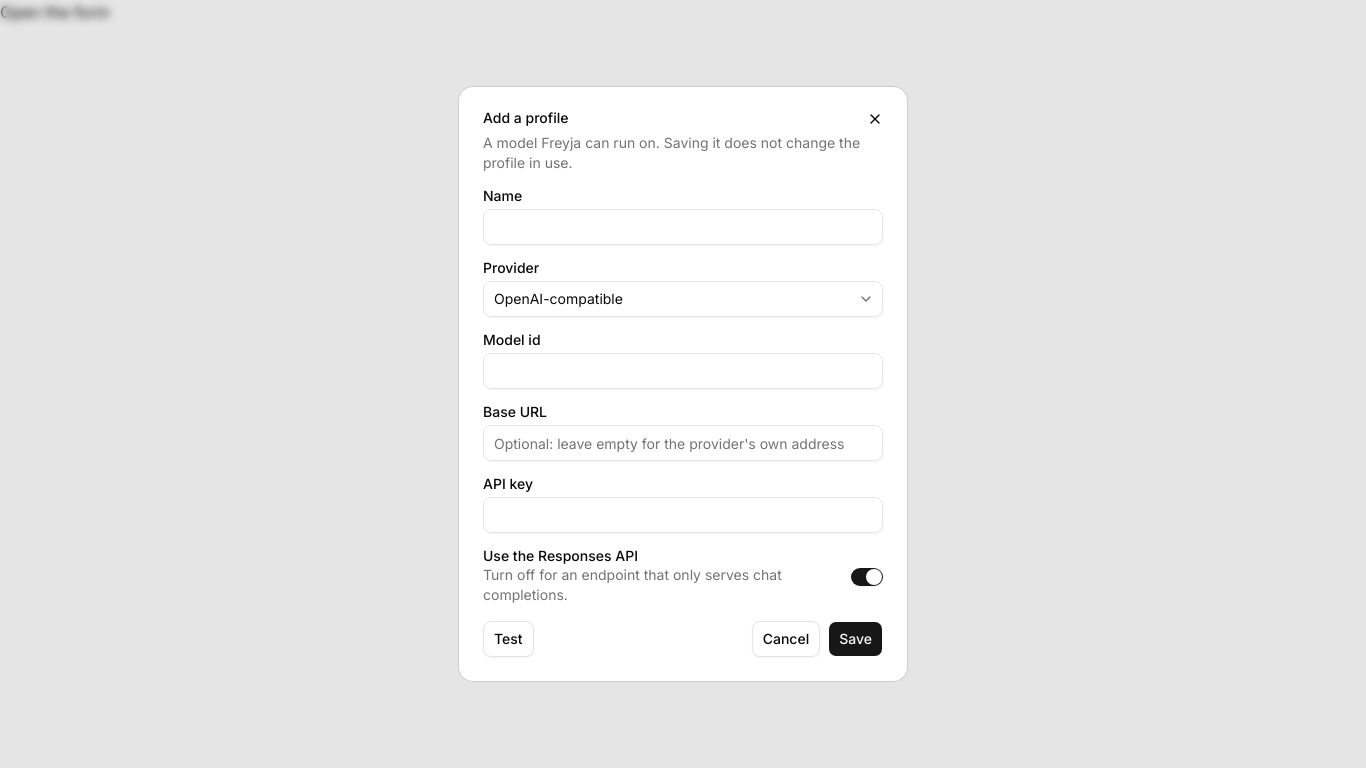
ProfileForm, adding › shows a name that is taken at the name, and sends nothing more
Type "Local vLLM" into the field labelled "Name" at (683, 227), box x1=483 y1=209 x2=883 y2=245
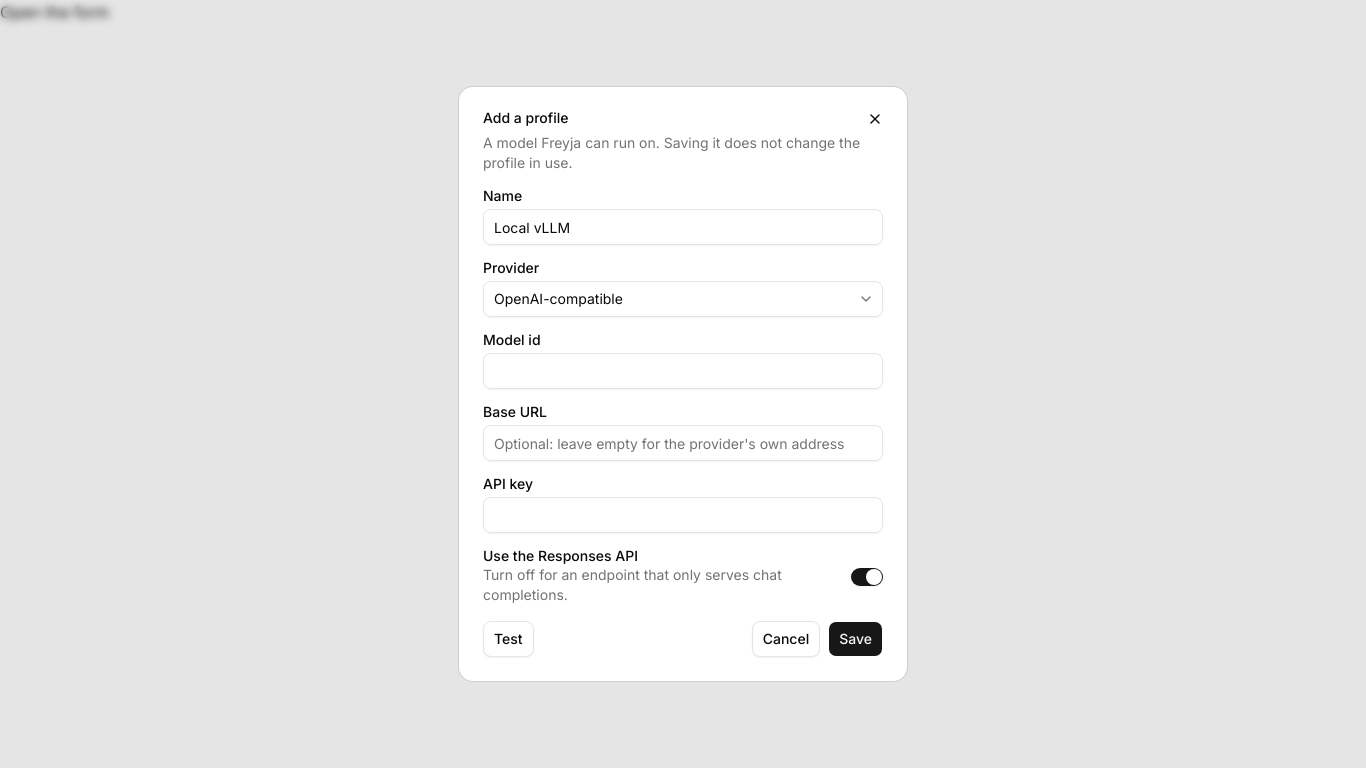
Type "served-model" into the field labelled "Model id" at (683, 371), box x1=483 y1=353 x2=883 y2=389
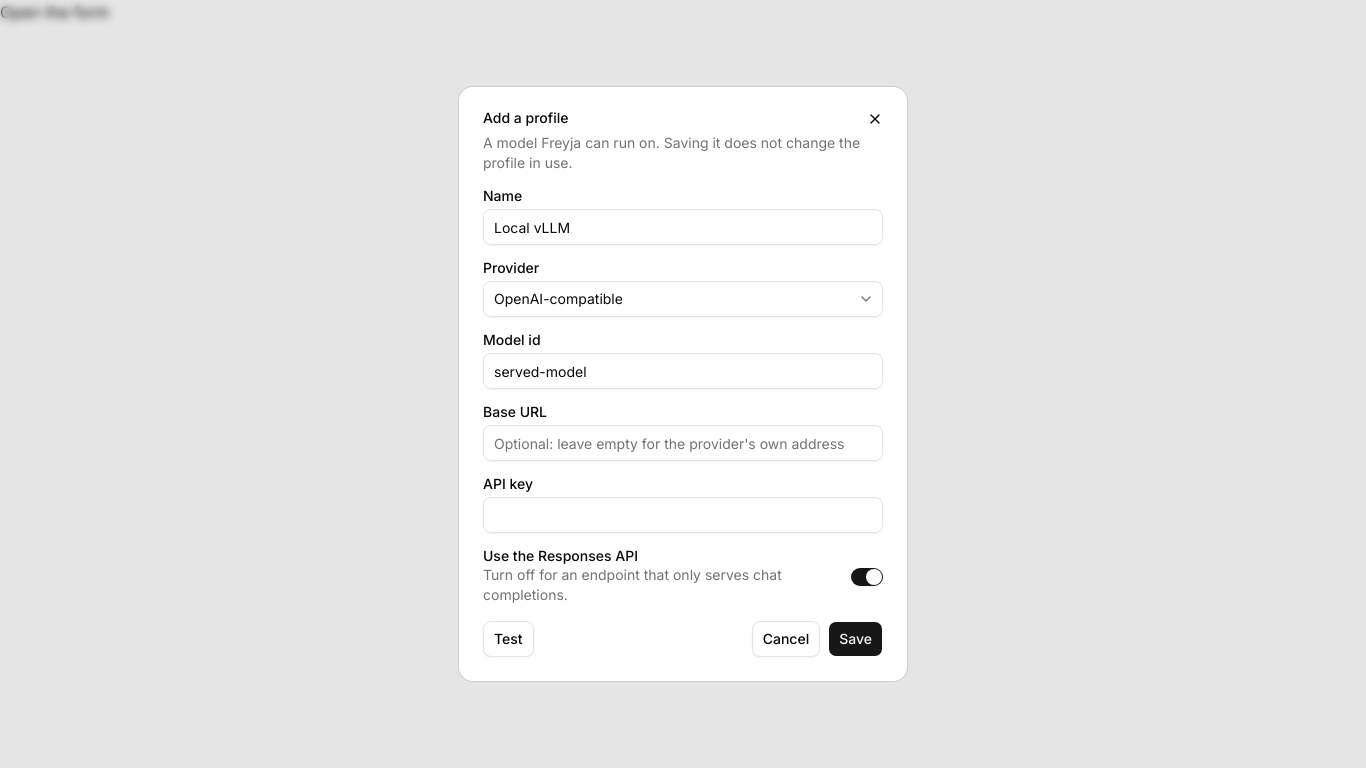
Type "http://10.0.0.5:31000/v1" into the field labelled "Base URL" at (683, 443), box x1=483 y1=425 x2=883 y2=461
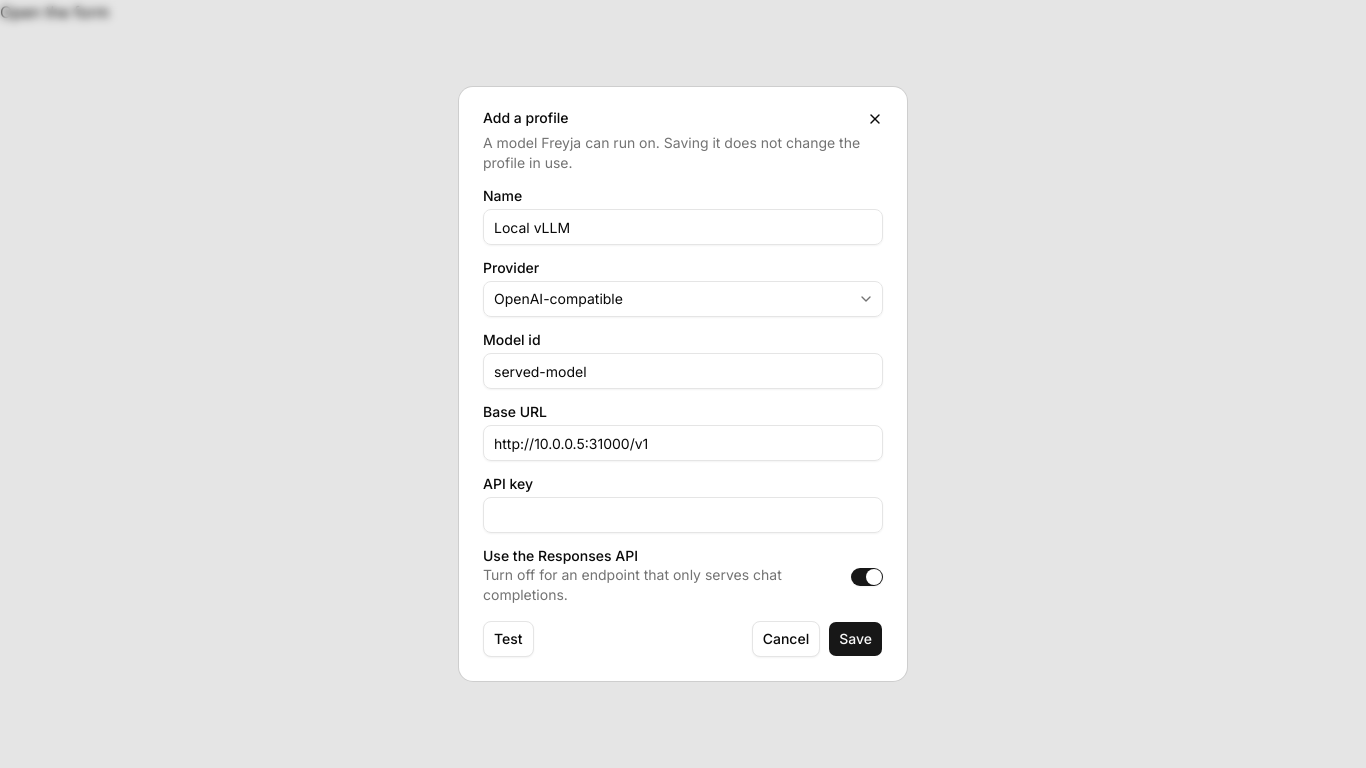
Type "sk-recognizable-key-0001" into the password field labelled "API key" at (683, 515), box x1=483 y1=497 x2=883 y2=533
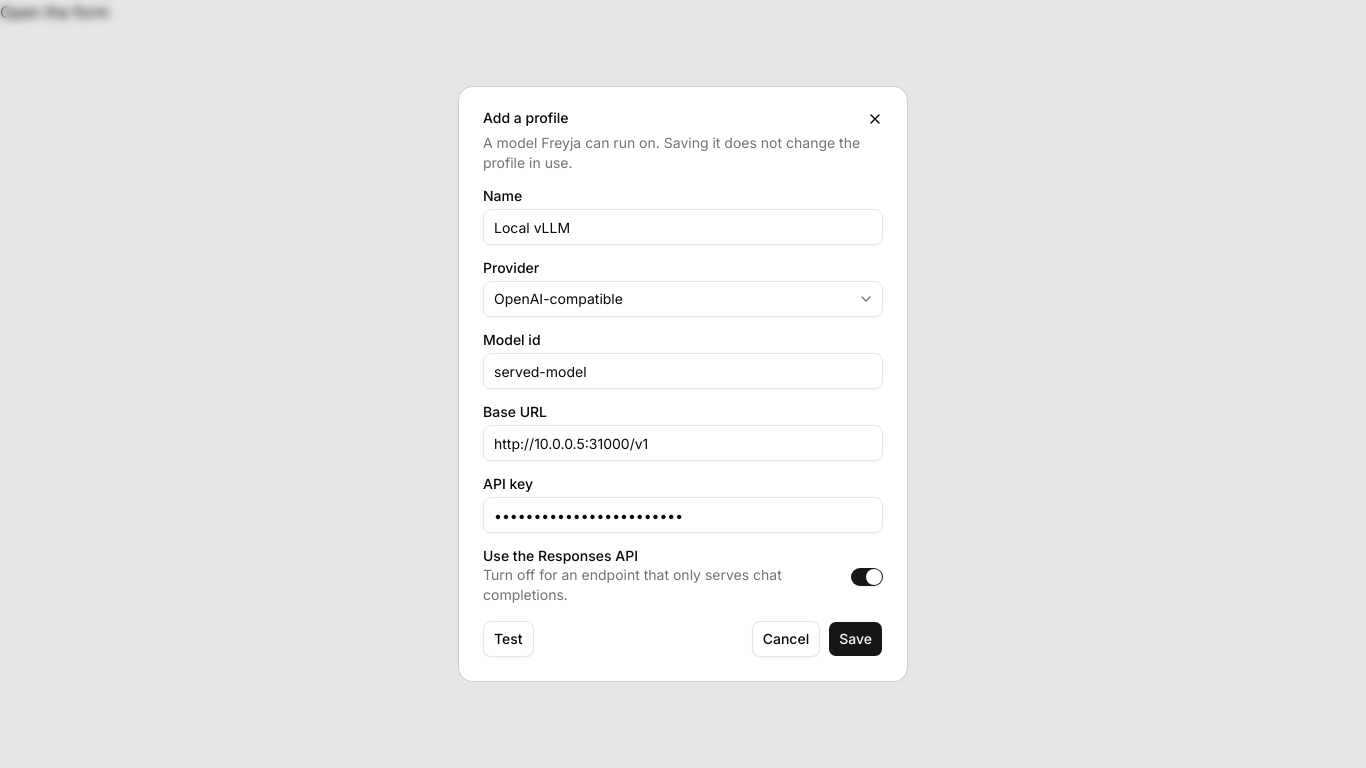
Click the button "Save" at (856, 639), box x1=828 y1=621 x2=883 y2=657
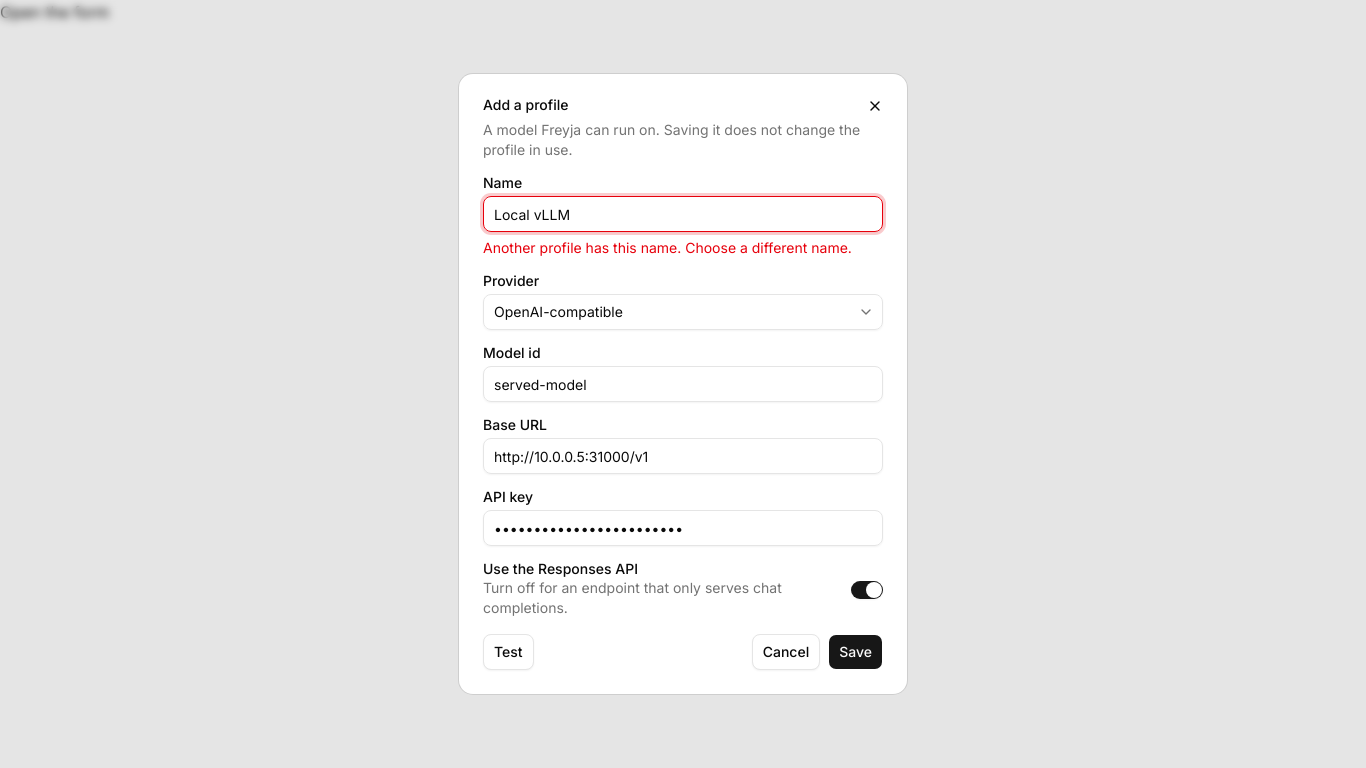
Expected: the text "Another profile has this name. Choose a different name." is shown, x1=483 y1=238 x2=883 y2=258
